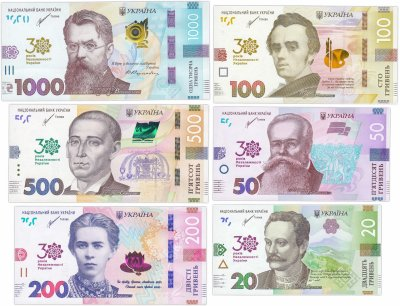bn_100: (214, 7, 398, 103)
bn_1000: (1, 1, 210, 100)
bn_20: (213, 205, 381, 295)
bn_200: (13, 208, 206, 305)
bn_50: (213, 107, 391, 202)
bn_500: (9, 104, 207, 203)
